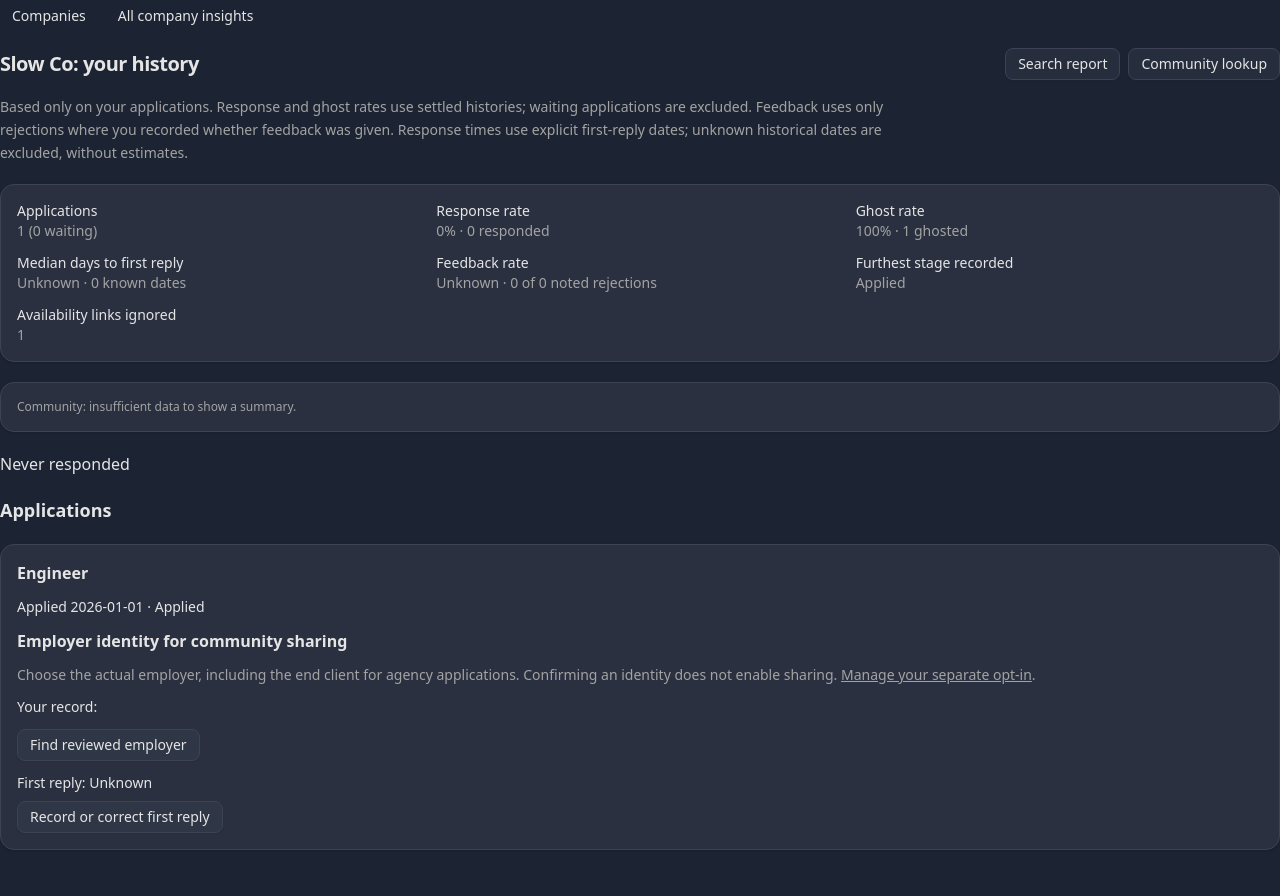
it: company insights pages › shows the company history and refreshes its median after explicitly recording a reply
Expected: the heading "Slow Co: your history" is shown, [0, 50, 199, 78]
Expected: the text "Unknown · 0 known dates" is shown, [17, 273, 186, 292]
Click the button "Record or correct first reply".
click(120, 817)  # box [17, 801, 223, 833]
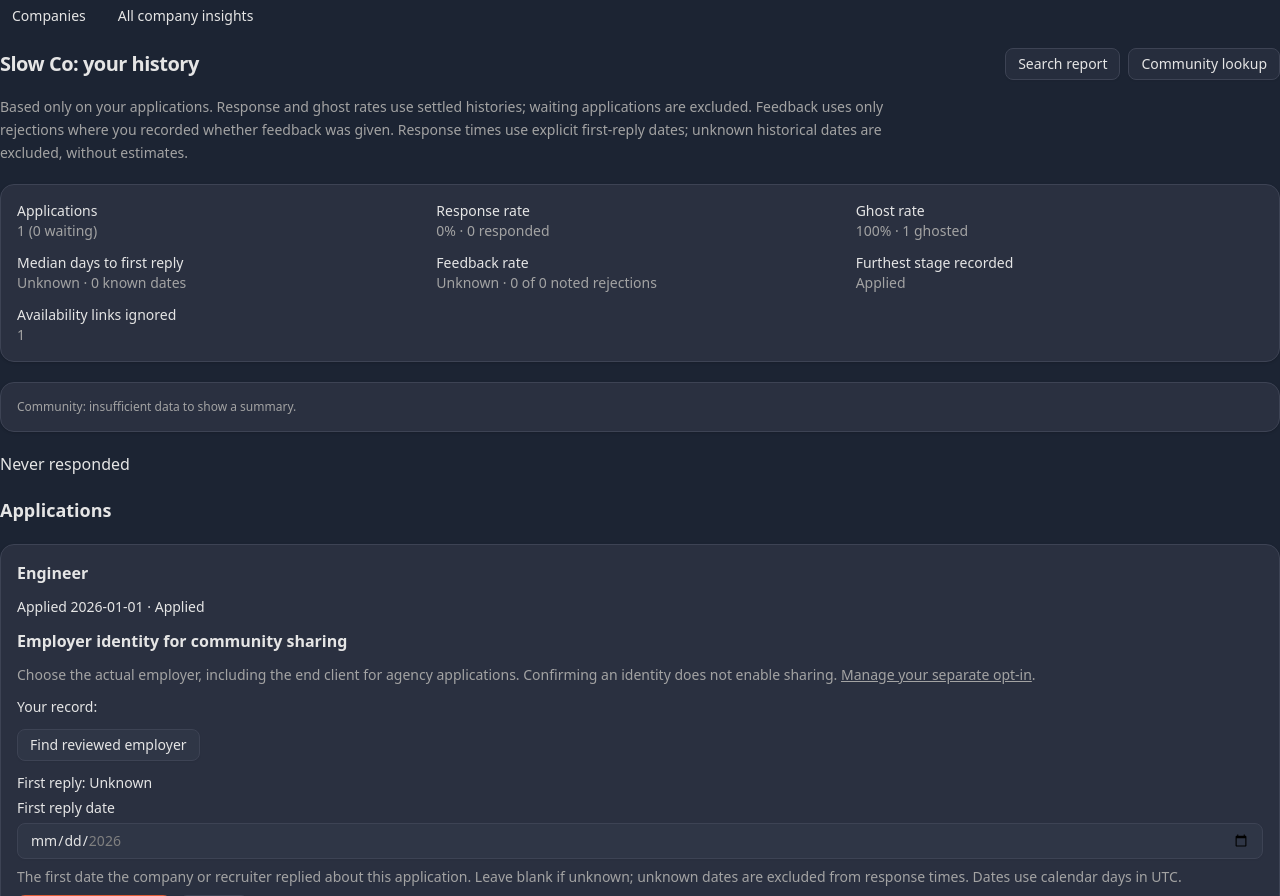
Expected: the date field labelled "First reply date" is empty
Type "2026-01-04" into the date field labelled "First reply date".
click(640, 841); type("2026-01-04")  # box [17, 823, 1263, 859]
(page scrolled)
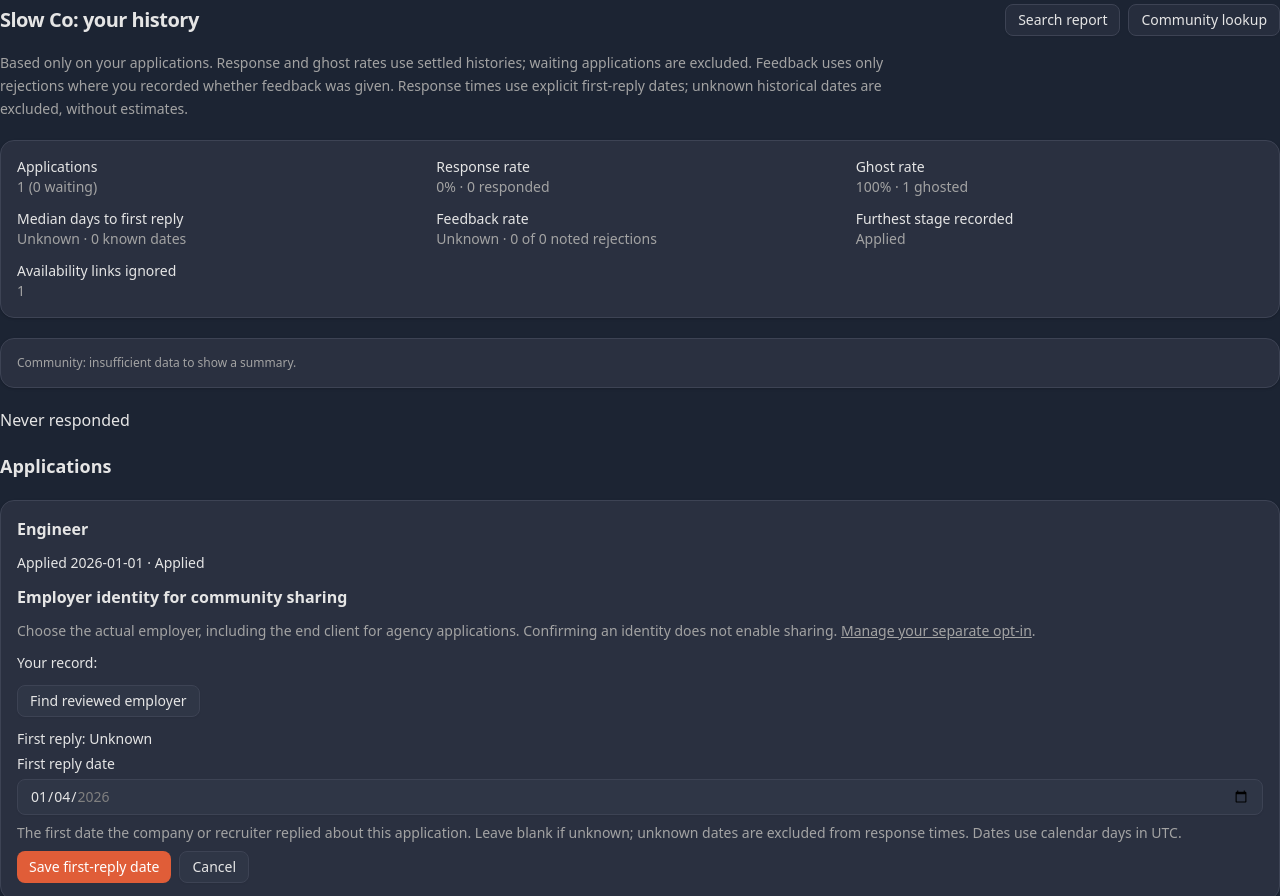
Click the button "Save first-reply date".
click(94, 867)  # box [17, 851, 172, 883]
(page scrolled)
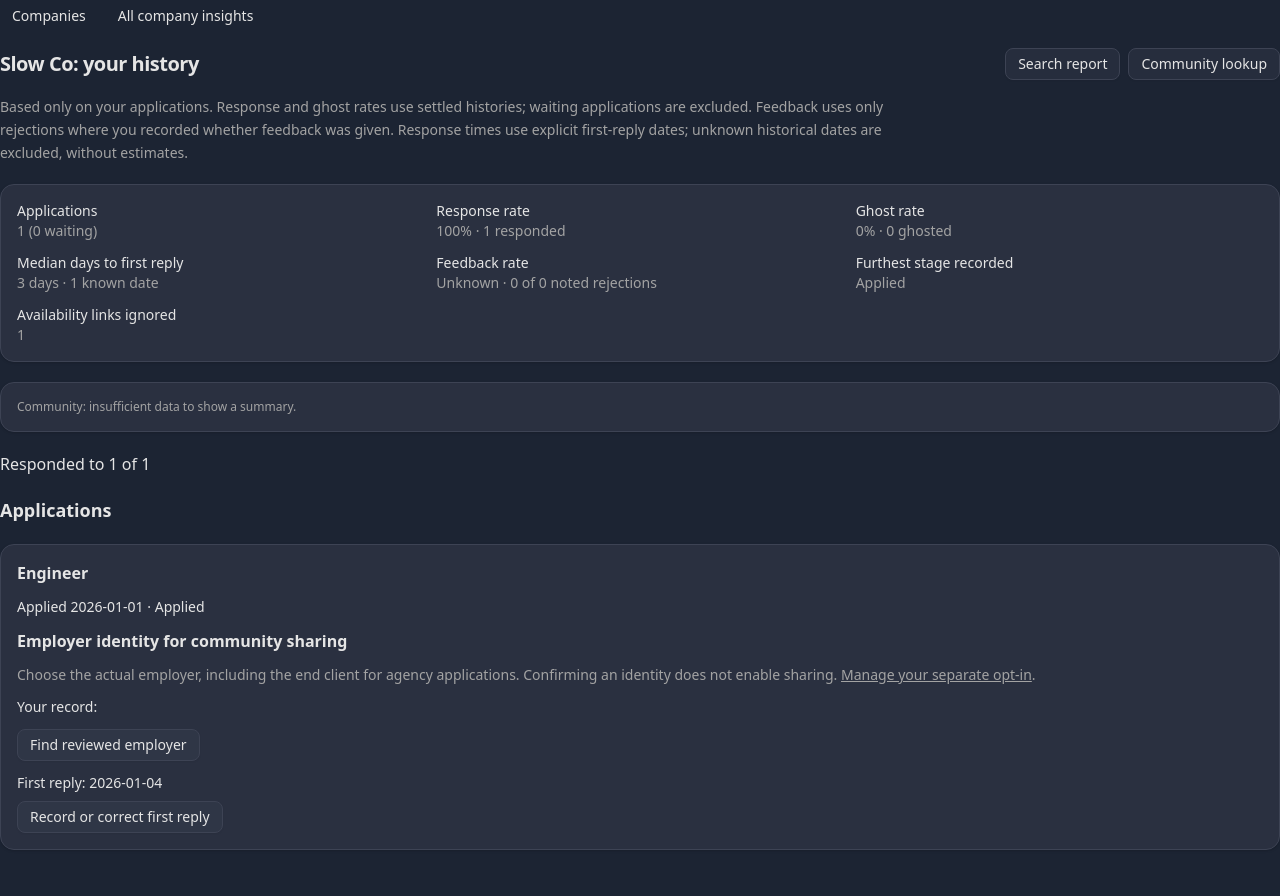
Expected: the text "3 days · 1 known date" is shown, [17, 273, 159, 292]
Expected: the text "First reply: 2026-01-04" is shown, [17, 773, 162, 792]
